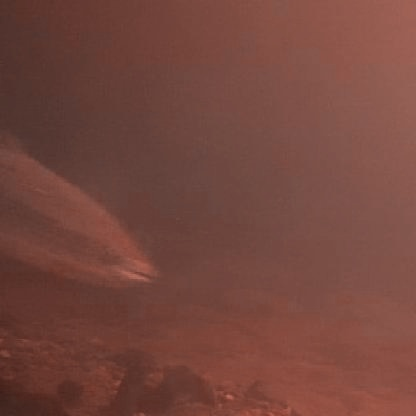salmon: (0, 126, 160, 294)
